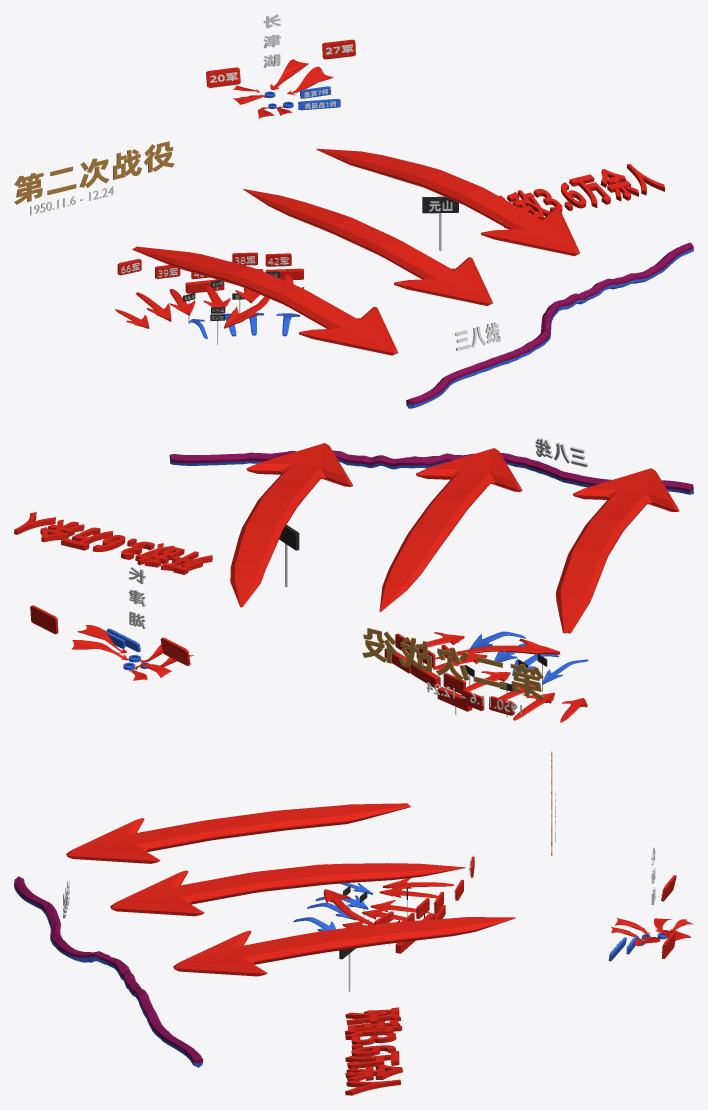
Rendered from 2-animate.glb.
3 views of the same model, one above another, from view 1: azimuth 30°, elevation 25°; view 2: azimuth 150°, elevation 25°; view 3: azimuth 270°, elevation 25° (orthographic). The views are drawn at different scales.
Visible parts, largest first — view 1: 贝塞尔曲线.016, 贝塞尔曲线.017, 贝塞尔曲线.112, 38line1, 文本.015, 文本.013, 柱体.009, 立方体.019; view 2: 贝塞尔曲线.016, 贝塞尔曲线.017, 贝塞尔曲线.112, 38line1, 文本.015, 文本.013, 贝塞尔曲线.128, 文本.017, 文本.012, 立方体.021, 立方体.019, 柱体.009 (+1 smaller); view 3: 贝塞尔曲线.016, 贝塞尔曲线.017, 贝塞尔曲线.112, 文本.015, 38line1.
Boxes of the visible parts, x1,y1,x2,y2 form: 贝塞尔曲线.016: (132, 246, 397, 355); 贝塞尔曲线.017: (316, 148, 579, 256); 贝塞尔曲线.112: (243, 189, 492, 305); 38line1: (406, 242, 693, 408); 文本.015: (499, 164, 665, 228); 文本.013: (14, 141, 174, 204); 柱体.009: (422, 196, 458, 251); 立方体.019: (206, 67, 240, 87); 贝塞尔曲线.016: (556, 468, 679, 633); 贝塞尔曲线.017: (230, 443, 352, 607); 贝塞尔曲线.112: (379, 448, 522, 612); 38line1: (169, 450, 693, 494); 文本.015: (14, 512, 212, 574); 文本.013: (362, 628, 543, 699); 贝塞尔曲线.128: (435, 638, 560, 659); 文本.017: (535, 438, 587, 467); 文本.012: (128, 566, 146, 628); 立方体.021: (30, 605, 58, 634); 立方体.019: (160, 637, 190, 665); 柱体.009: (279, 524, 299, 587); 贝塞尔曲线.016: (66, 803, 410, 863); 贝塞尔曲线.017: (173, 917, 515, 976); 贝塞尔曲线.112: (110, 863, 465, 916); 文本.015: (344, 1007, 402, 1095); 38line1: (14, 876, 203, 1067).
Size of what is drawn, in the model's own units: 44.83 by 13.48 by 47.22.
